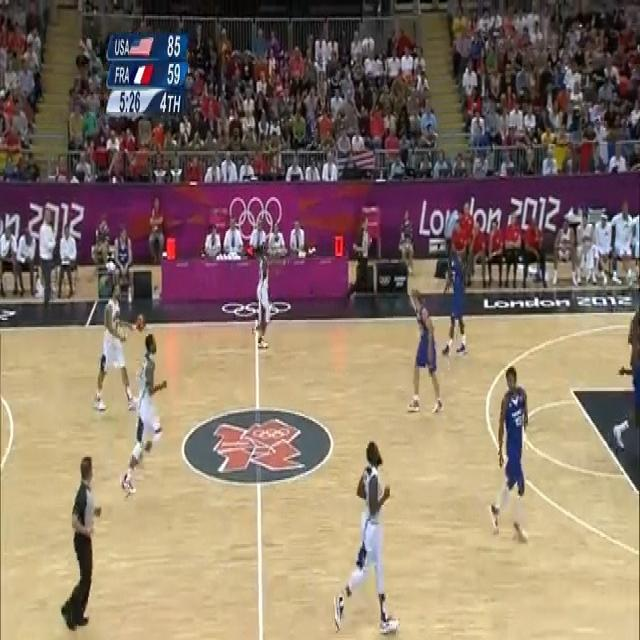basketball: (136, 312, 147, 332)
